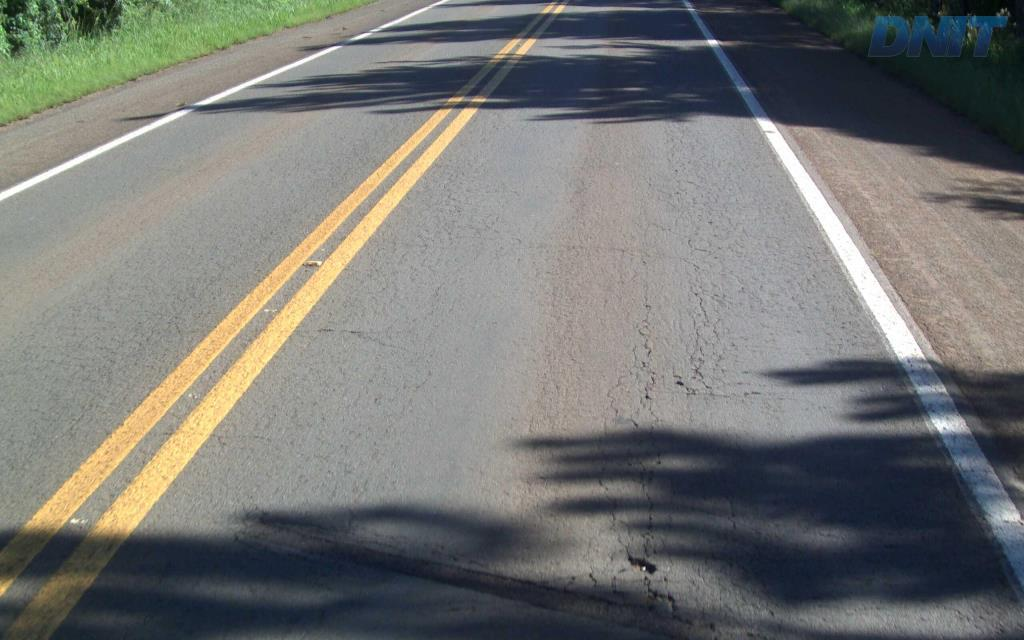pothole: (622, 550, 662, 577)
